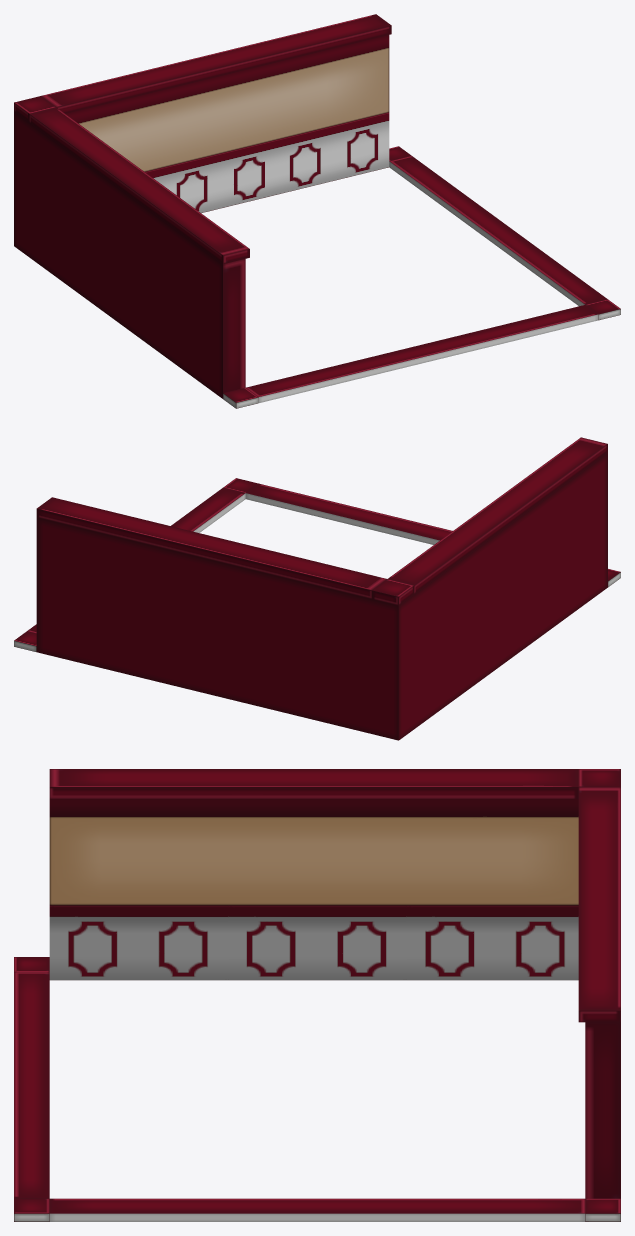
Rendered from Wall_2.FBX.
The picture shows the model from 3 angles, top to bottom: view 1: azimuth 30°, elevation 25°; view 2: azimuth 150°, elevation 25°; view 3: azimuth 270°, elevation 25°; orthographic projection. The views are drawn at different scales.
Parts seen in each view (by area): view 1: Object162; view 2: Object162; view 3: Object162.
Part boxes in pixels (x1,y1,x2,y2): Object162: [14, 14, 620, 408]; Object162: [14, 437, 620, 740]; Object162: [14, 769, 620, 1221].
Bounding box in the file's own units: 17 × 6.07 × 17.
